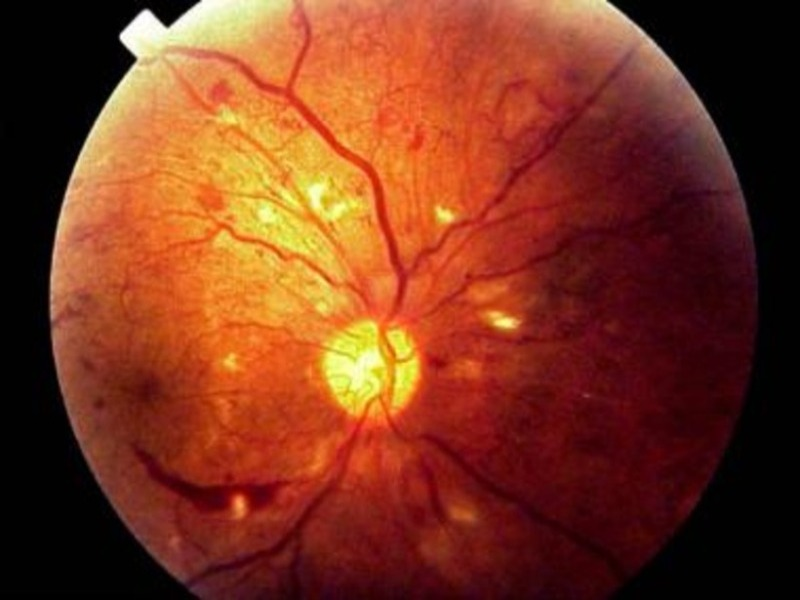Optic Cup: (327, 324, 422, 402)
Optic Disc: (334, 401, 417, 439)
